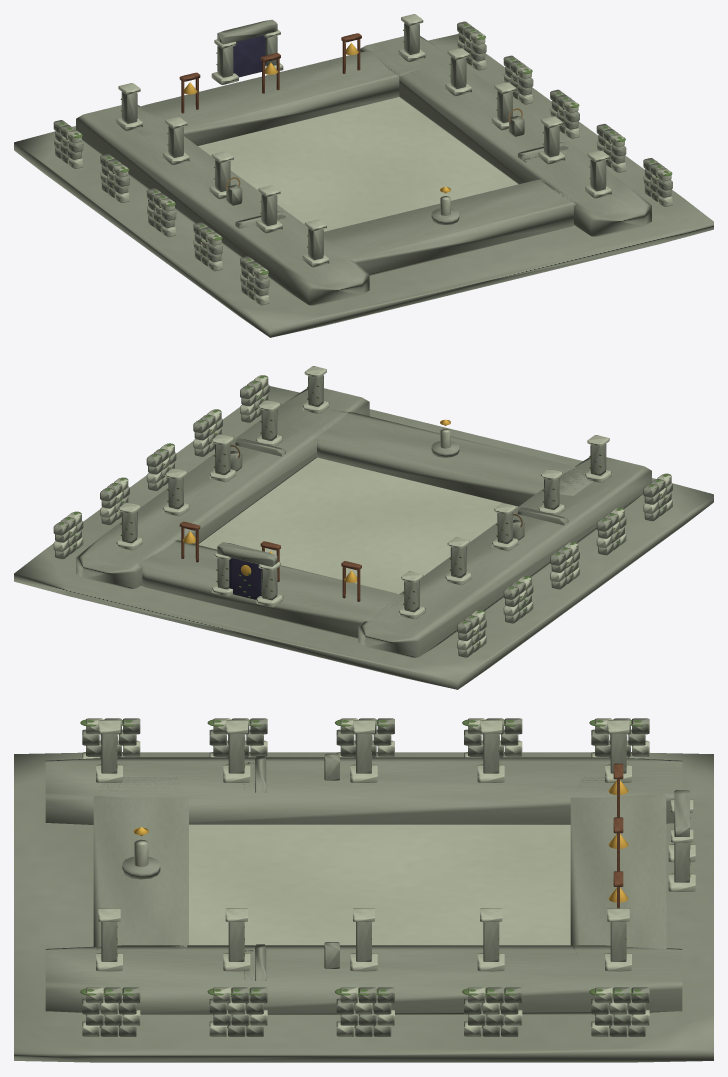
Rendered from abbey_restored.glb.
3 renders of one model, top to bottom at view 1: azimuth 30°, elevation 25°; view 2: azimuth 150°, elevation 25°; view 3: azimuth 270°, elevation 25°, orthographic. The views are drawn at different scales.
Parts seen in each view (by area): view 1: abbey_restored_StaticBatch; view 2: abbey_restored_StaticBatch; view 3: abbey_restored_StaticBatch.
Part boxes in pixels (bbox=[...]): abbey_restored_StaticBatch: bbox=[14, 14, 713, 337]; abbey_restored_StaticBatch: bbox=[14, 366, 713, 689]; abbey_restored_StaticBatch: bbox=[14, 718, 713, 1062].
Bounding box in the file's own units: 22 × 3.7 × 22.
1 material, 1 textured.
